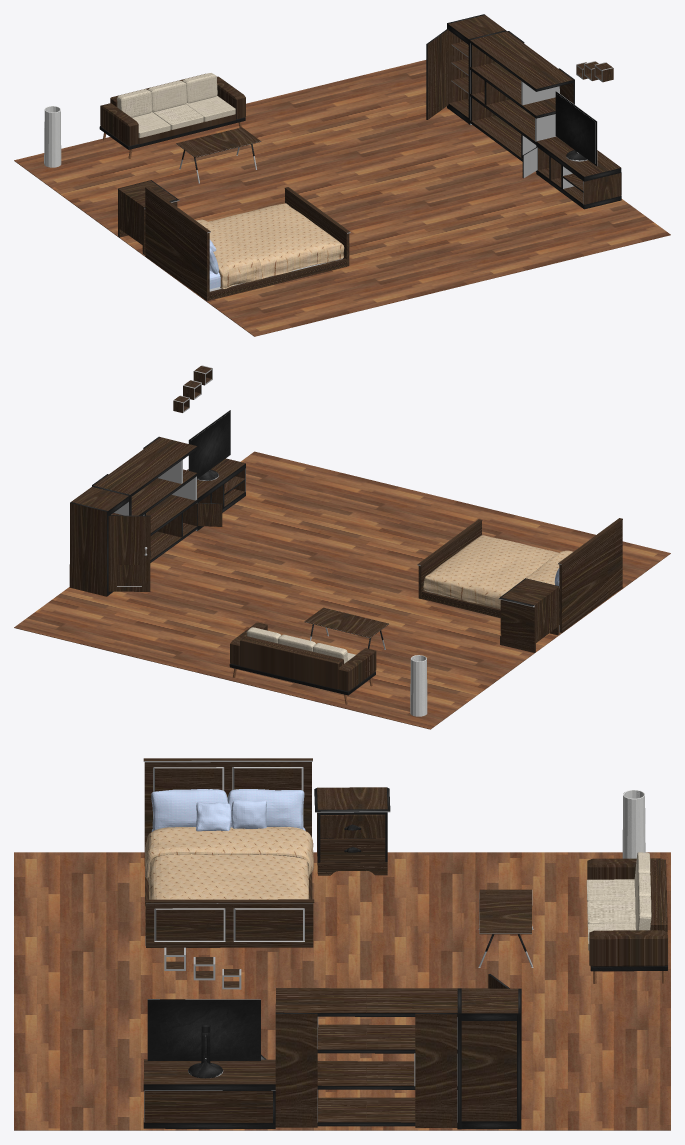
The model's file is T2 Set 2 Pos 4.glb.
3 views of the same model, one above another, from view 1: azimuth 30°, elevation 25°; view 2: azimuth 150°, elevation 25°; view 3: azimuth 270°, elevation 25° (orthographic). The views are drawn at different scales.
Bounding box in the file's own units: 0.2923 × 0.0855 × 0.292.
9 materials, 8 textured.
